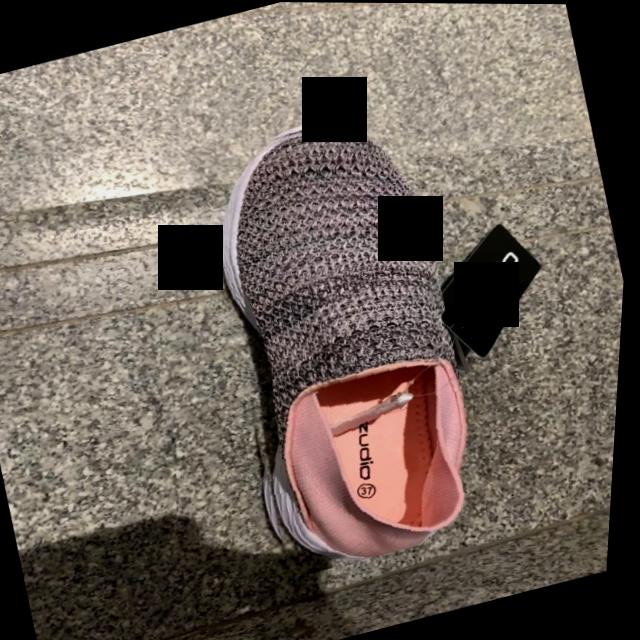shoe: (222, 128, 471, 560)
